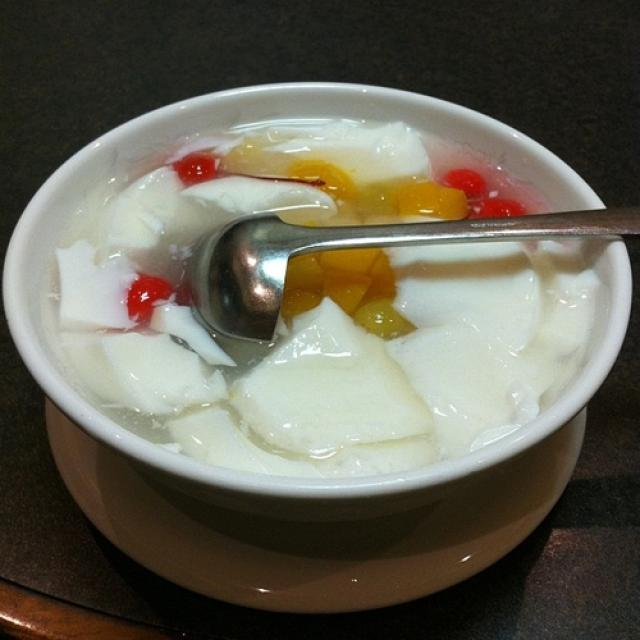蔬菜料理: (0, 0, 628, 619)
